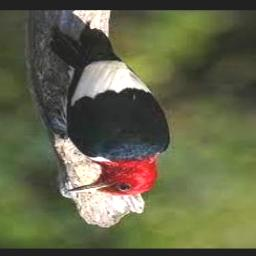Woodpecker: (50, 23, 174, 195)
